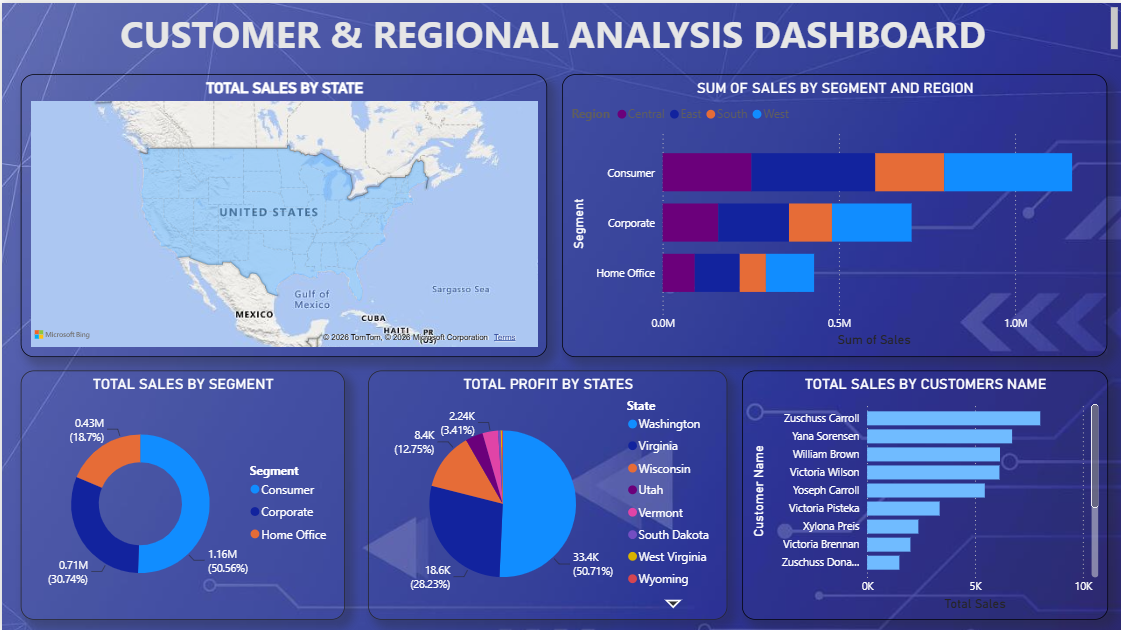

The dashboard page shown, as its layout file describes it:
{"tool":"powerbi","page":{"name":"Customer & Regional Analysis","canvas":[1280,720],"ordinal":2},"visuals":[{"type":"filledMap","title":"TOTAL SALES BY STATE","fields":{"Category":["Superstore.State"]},"box":[21.7,81.7,601.7,323.3],"z":0},{"type":"textbox","box":[0,0,1280,61.7],"z":1000},{"type":"pieChart","title":"TOTAL PROFIT BY STATES","fields":{"Category":["Superstore.State"],"Y":["Superstore.Total Profit"]},"box":[418.3,420,410,285],"z":2000},{"type":"donutChart","title":"TOTAL SALES BY SEGMENT ","fields":{"Category":["Superstore.Segment"],"Y":["Superstore.Total Sales"]},"box":[21.7,420,370,285],"z":3000},{"type":"barChart","title":"TOTAL SALES BY CUSTOMERS NAME","fields":{"Category":["Superstore.Customer Name"],"Y":["Superstore.Total Sales"]},"box":[845,420,418.3,285],"z":4000},{"type":"barChart","title":"SUM OF SALES BY SEGMENT AND REGION ","fields":{"Category":["Superstore.Segment"],"Y":["Sum(Superstore.Sales)"],"Series":["Superstore.Region"]},"box":[640,81.7,623.3,323.3],"z":5000}]}

Visuals, with their boxes in screenshot pixels (x1, y1, x2, y2), scaled from the page's 1280x720 canvas onto the 1121x630 screenshot:
"TOTAL SALES BY STATE" filledMap: [19,71,546,354]
textbox: [0,0,1120,54]
"TOTAL PROFIT BY STATES" pieChart: [366,368,725,617]
"TOTAL SALES BY SEGMENT " donutChart: [19,368,343,617]
"TOTAL SALES BY CUSTOMERS NAME" barChart: [740,368,1106,617]
"SUM OF SALES BY SEGMENT AND REGION " barChart: [560,71,1106,354]
